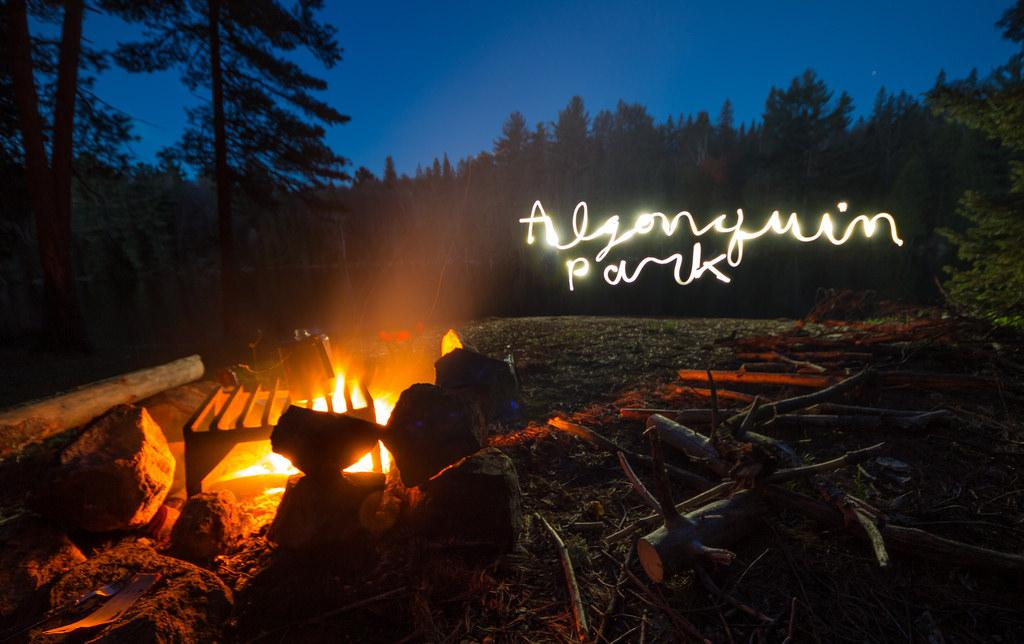fire: (318, 387, 363, 410), (373, 378, 388, 432), (353, 452, 387, 473)
